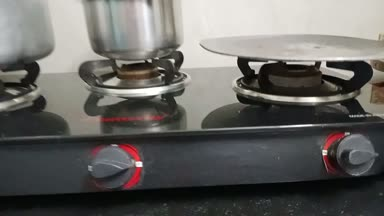flame_gas_off: (241, 59, 384, 180), (80, 51, 178, 191)
